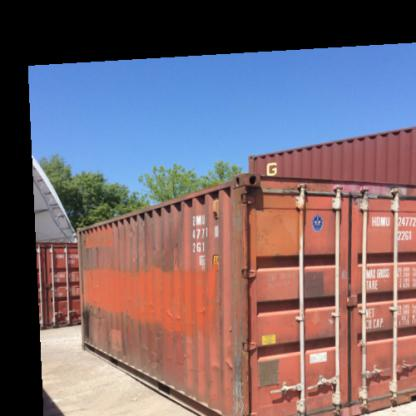Damage: (202, 351, 257, 415), (126, 220, 167, 270), (116, 309, 139, 370), (81, 301, 108, 349), (174, 334, 195, 376), (146, 324, 162, 378), (170, 240, 186, 283), (113, 222, 124, 280), (92, 240, 105, 272), (196, 294, 209, 320), (163, 308, 185, 322), (80, 236, 91, 263)
